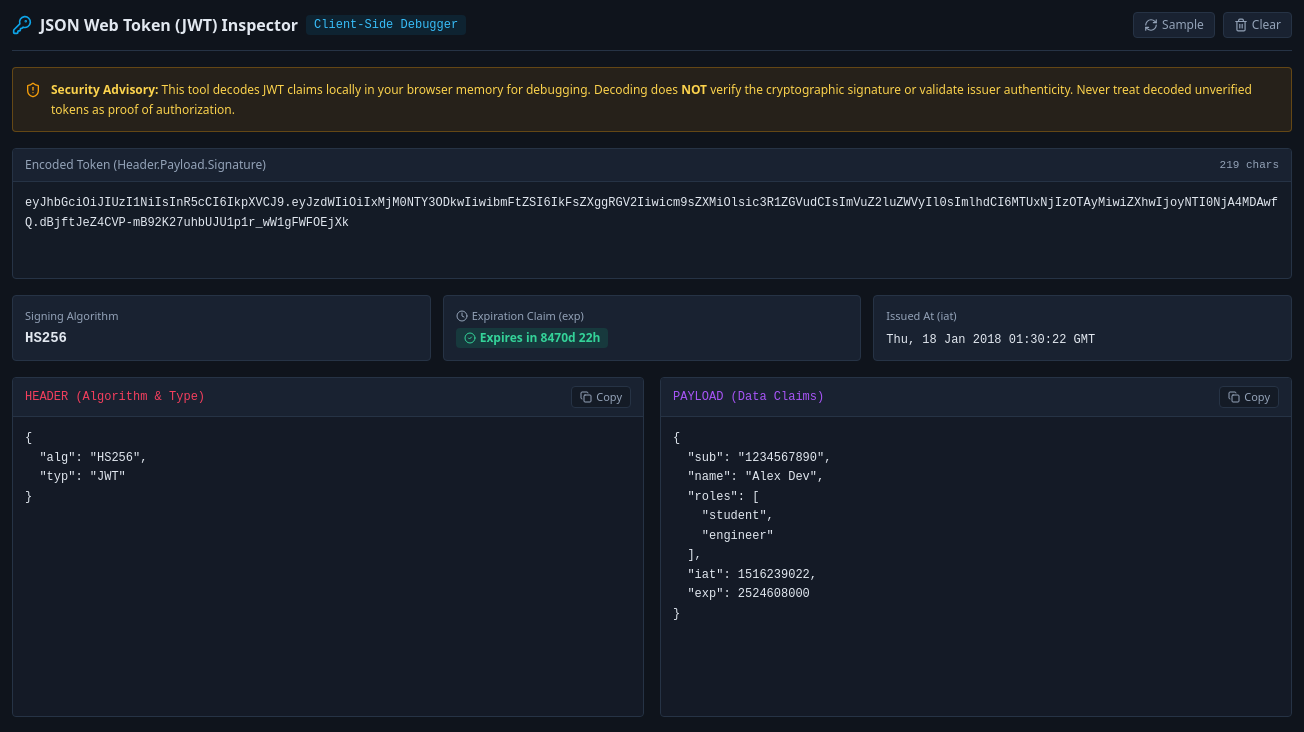
JwtInspector Component › displays invalid JWT error on broken token input
Replace the text in the text box named "Encoded JWT Token" with "invalid.token" at (652, 230), box [13,182,1291,278]
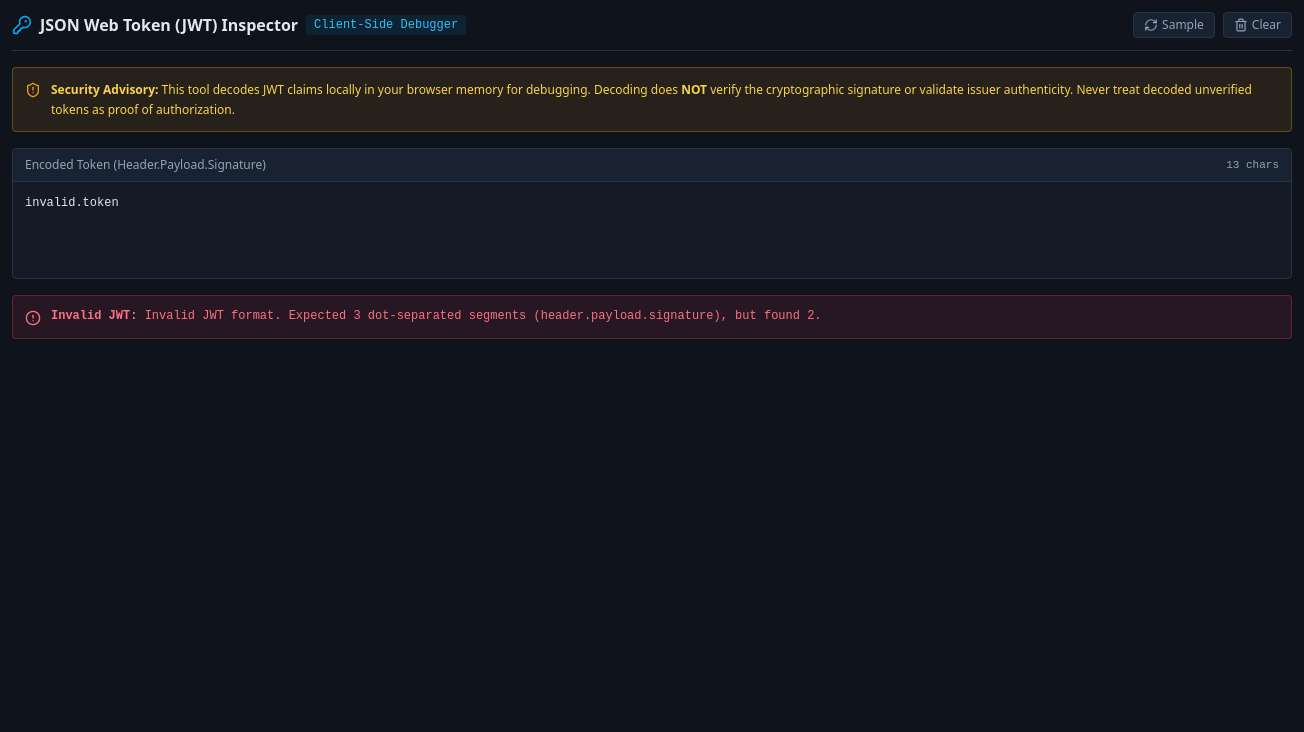
Expected: the text "Invalid JWT:" is shown, [51,309,137,323]
